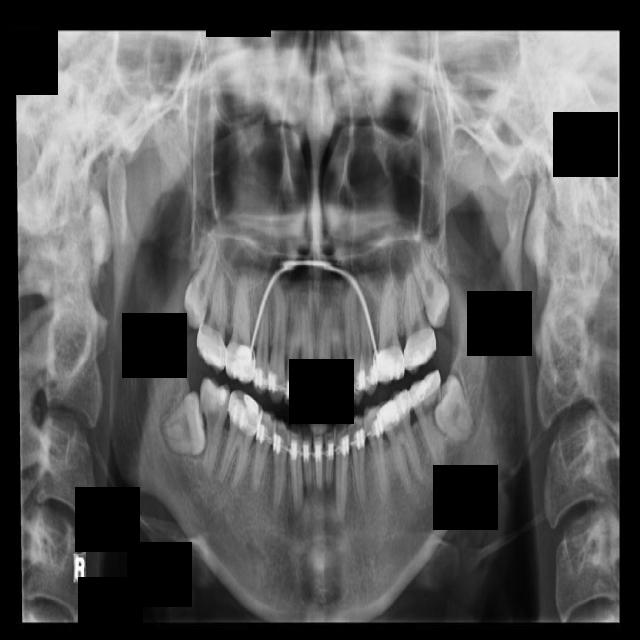3M ESPE Implant: (177, 239, 224, 330)
52: (429, 395, 444, 437)
73: (552, 590, 562, 604)
BioHorizons Implant: (399, 266, 437, 374)
BioLife Implant: (402, 237, 461, 331)
Biomet 3i Implant: (424, 371, 478, 445)
Blue Sky Bio Implant: (407, 370, 449, 475)
Caries: (195, 253, 232, 375)
Implant: (198, 377, 232, 478)
Keystone Dental Implant: (157, 389, 209, 460)
